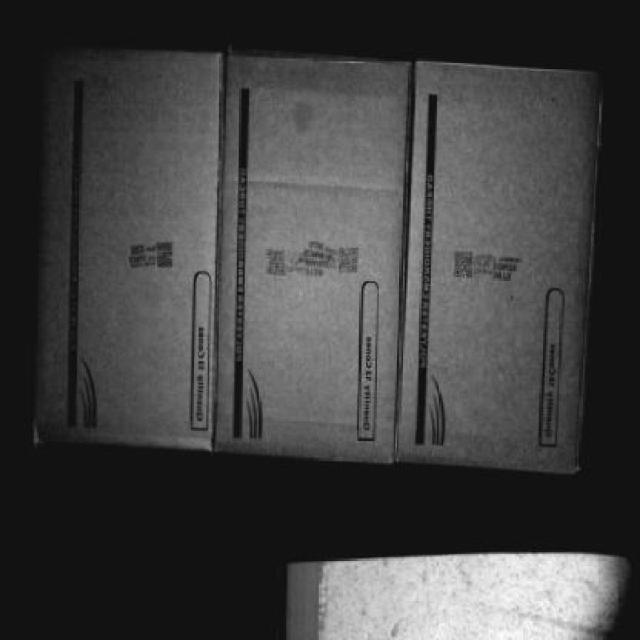cardboxes: (398, 68, 598, 463), (219, 58, 403, 457), (32, 56, 216, 447)
